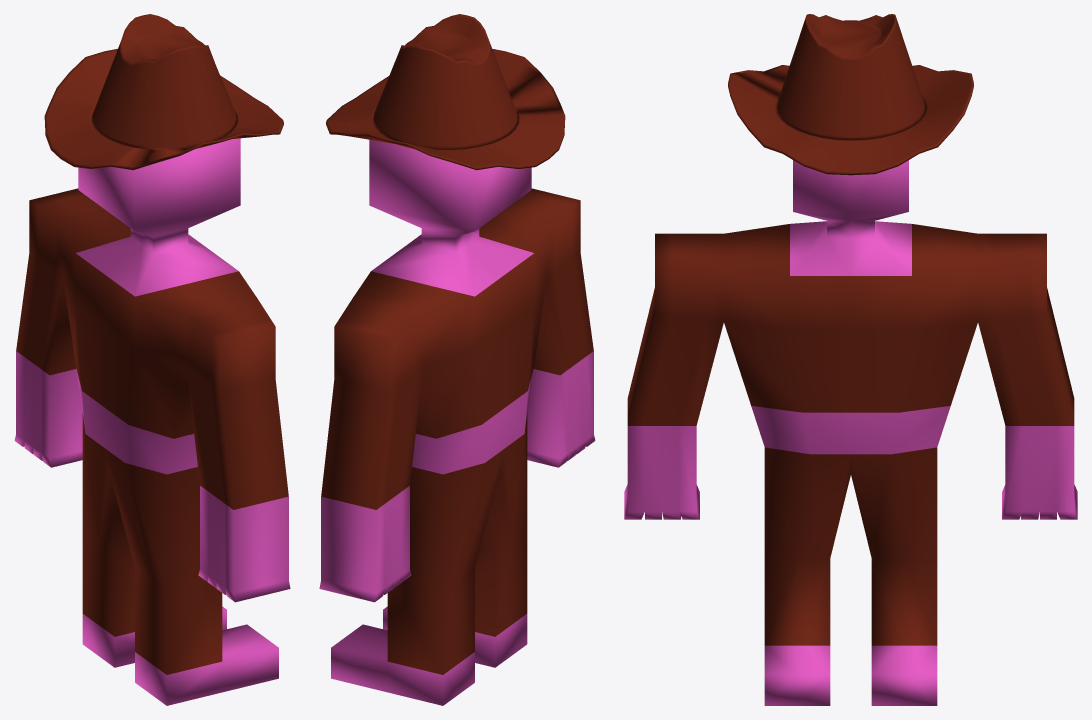
Rendered from CowboyBase.fbx.
3 renders of one model, left to right at view 1: azimuth 30°, elevation 25°; view 2: azimuth 150°, elevation 25°; view 3: azimuth 270°, elevation 25°, orthographic. The views are drawn at different scales.
Visible parts, largest first — view 1: Cowboy, Circle; view 2: Cowboy, Circle; view 3: Cowboy, Circle.
Part boxes in pixels (left/top/right/bottom): Cowboy: left=14, top=138, right=290, bottom=705; Circle: left=44, top=14, right=283, bottom=170; Cowboy: left=319, top=139, right=595, bottom=705; Circle: left=326, top=14, right=565, bottom=170; Cowboy: left=624, top=160, right=1077, bottom=705; Circle: left=728, top=14, right=973, bottom=175.
Size of the model in its own units: 0.5363 by 1.56 by 0.9878.
